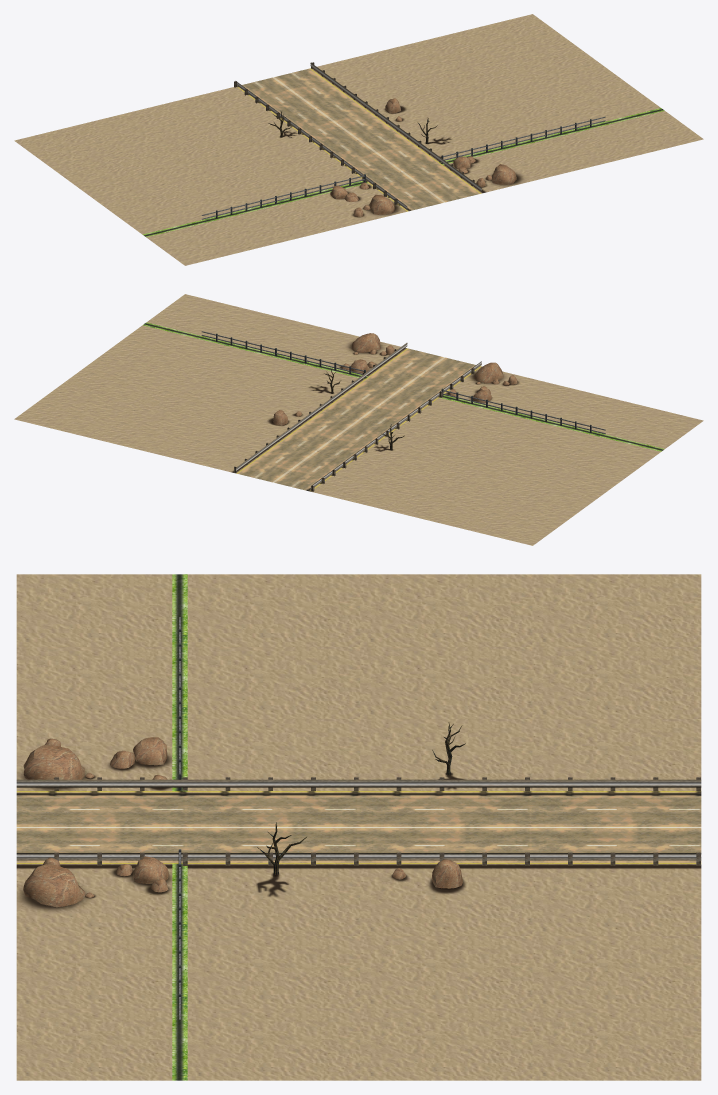
Rendered from end1.FBX.
3 renders of one model, top to bottom at view 1: azimuth 30°, elevation 25°; view 2: azimuth 150°, elevation 25°; view 3: azimuth 270°, elevation 25°, orthographic. The views are drawn at different scales.
Parts seen in each view (by area): view 1: end1, road001, boundry1, rock, relling001; view 2: end1, road001, boundry1, rock, relling001; view 3: end1, road001, relling001, rock, boundry1, Box013.
Boxes of the visible parts, <box> form: end1: <box>14,14,703,265</box>; road001: <box>237,68,481,211</box>; boundry1: <box>142,108,664,237</box>; rock: <box>330,98,516,216</box>; relling001: <box>234,62,481,209</box>; end1: <box>14,294,703,545</box>; road001: <box>236,348,481,491</box>; boundry1: <box>143,322,664,451</box>; rock: <box>273,333,517,425</box>; relling001: <box>234,343,481,491</box>; end1: <box>16,574,701,1080</box>; road001: <box>16,791,701,863</box>; relling001: <box>16,777,701,865</box>; rock: <box>23,737,462,907</box>; boundry1: <box>172,574,187,1080</box>; Box013: <box>257,722,465,874</box>.
Bounding box in the file's own units: 140 × 8.04 × 80.
